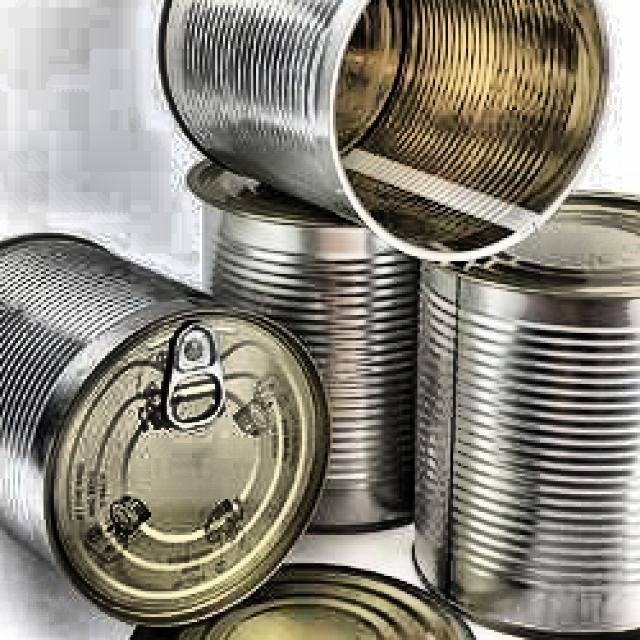metal: (0, 217, 340, 637), (146, 0, 625, 279), (178, 121, 454, 546), (407, 171, 640, 640), (112, 537, 501, 640)
